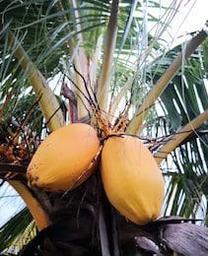coconut: (102, 133, 166, 226), (26, 123, 102, 194)
